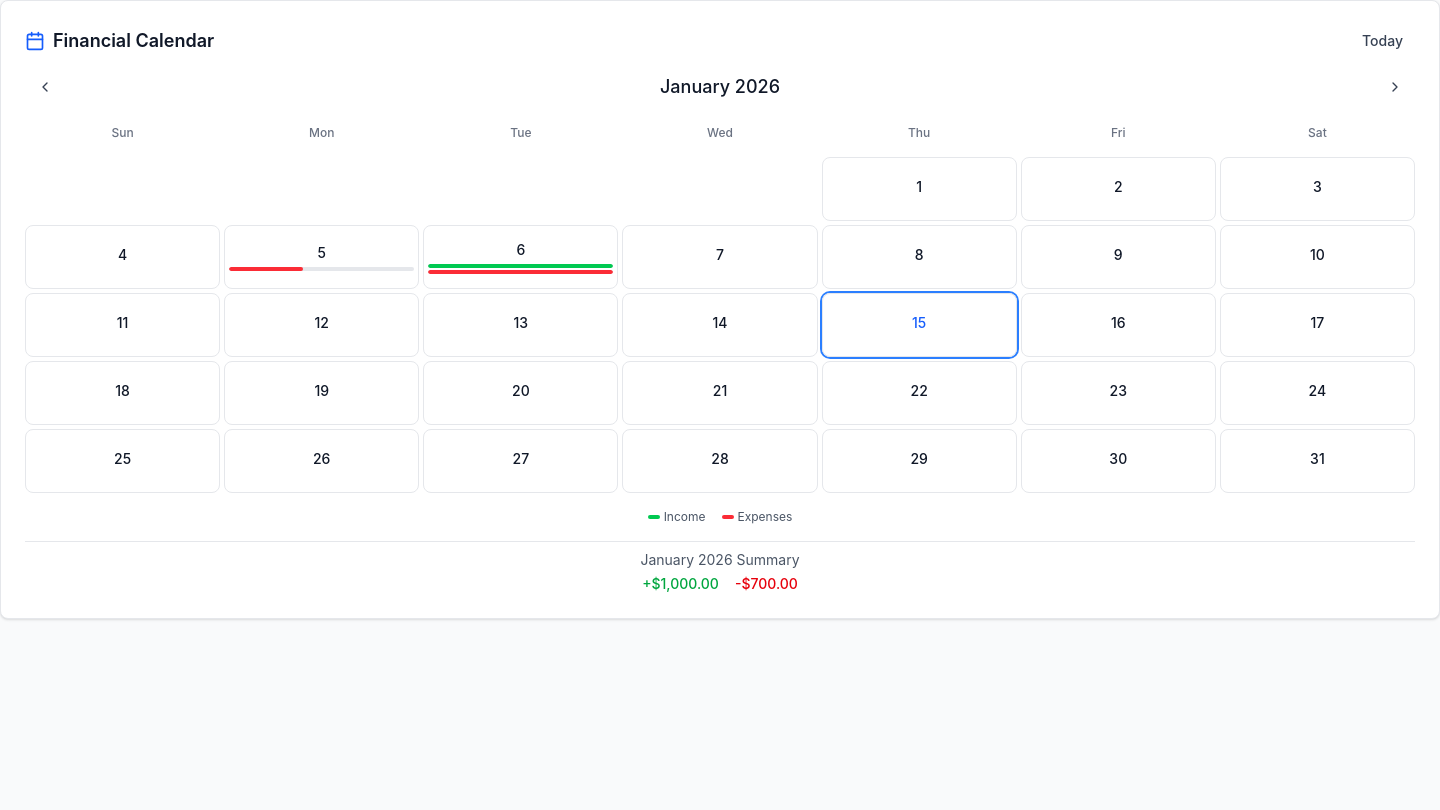
FinancialCalendarWidget › can navigate between months
The image size is (1440, 810).
Click the button named "Previous month" at (45, 87), box [25, 73, 65, 101]
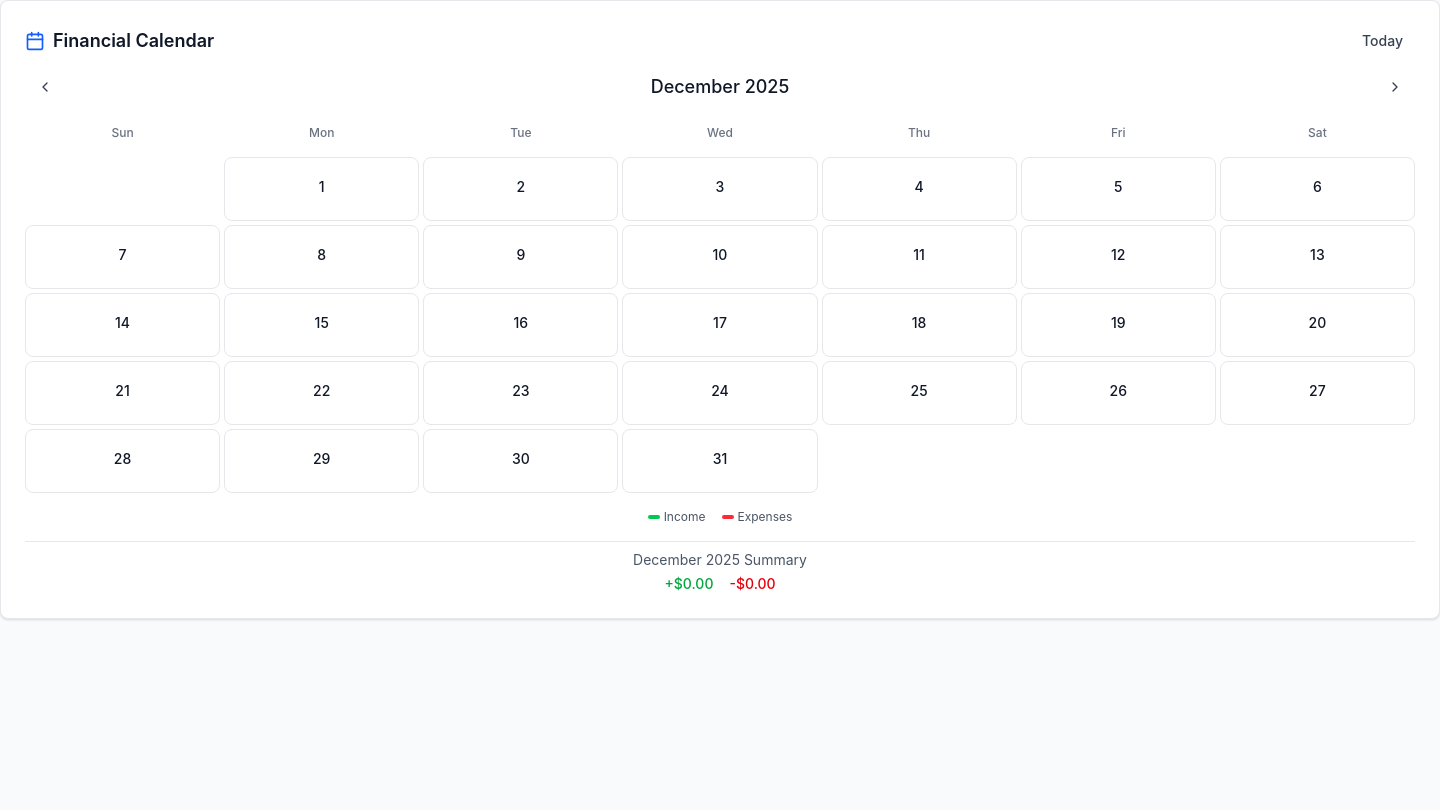
Check: the heading "December 2025" is shown, box [651, 73, 789, 101]
Click the button named "Next month" at (1395, 87), box [1375, 73, 1415, 101]
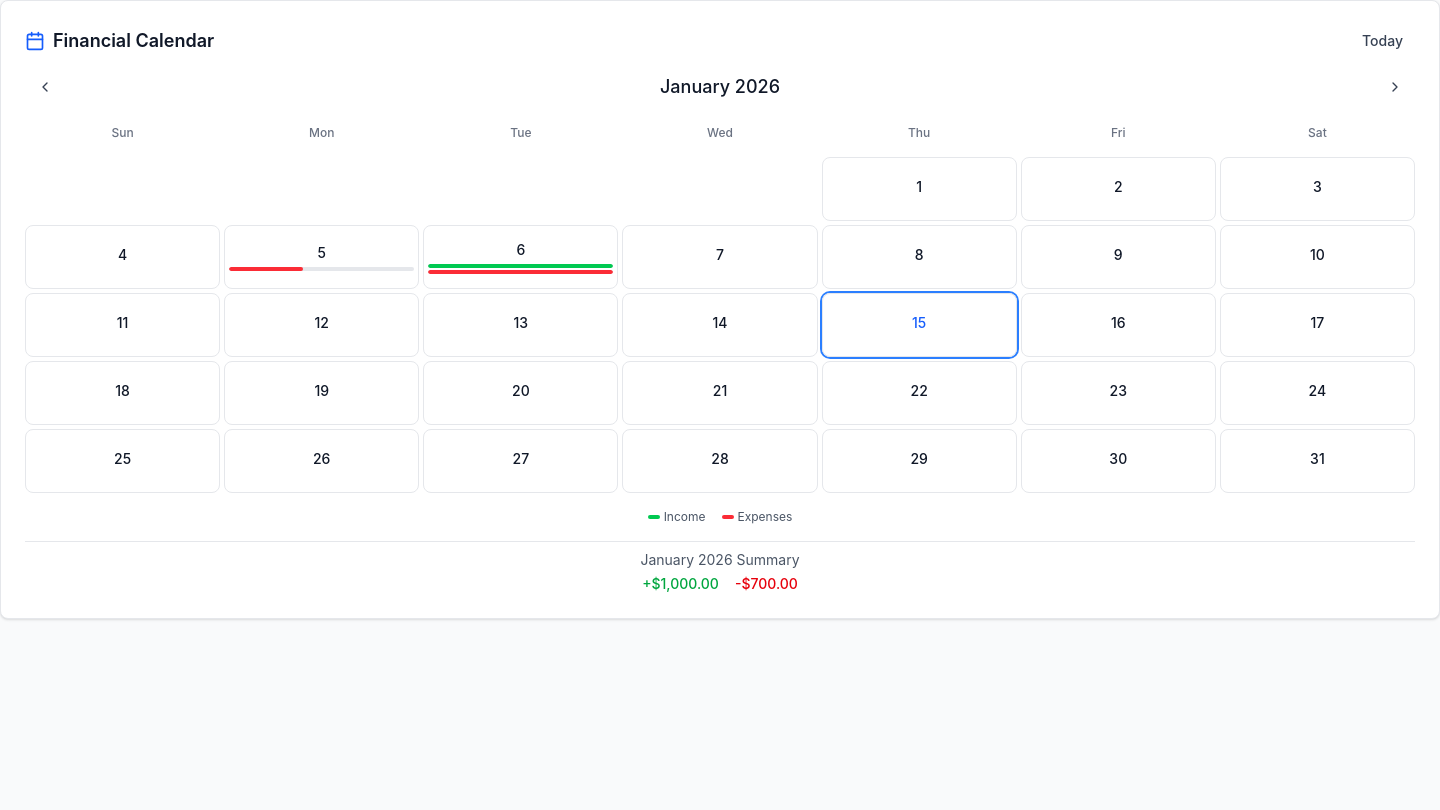
Click the button named "Next month" at (1395, 87), box [1375, 73, 1415, 101]
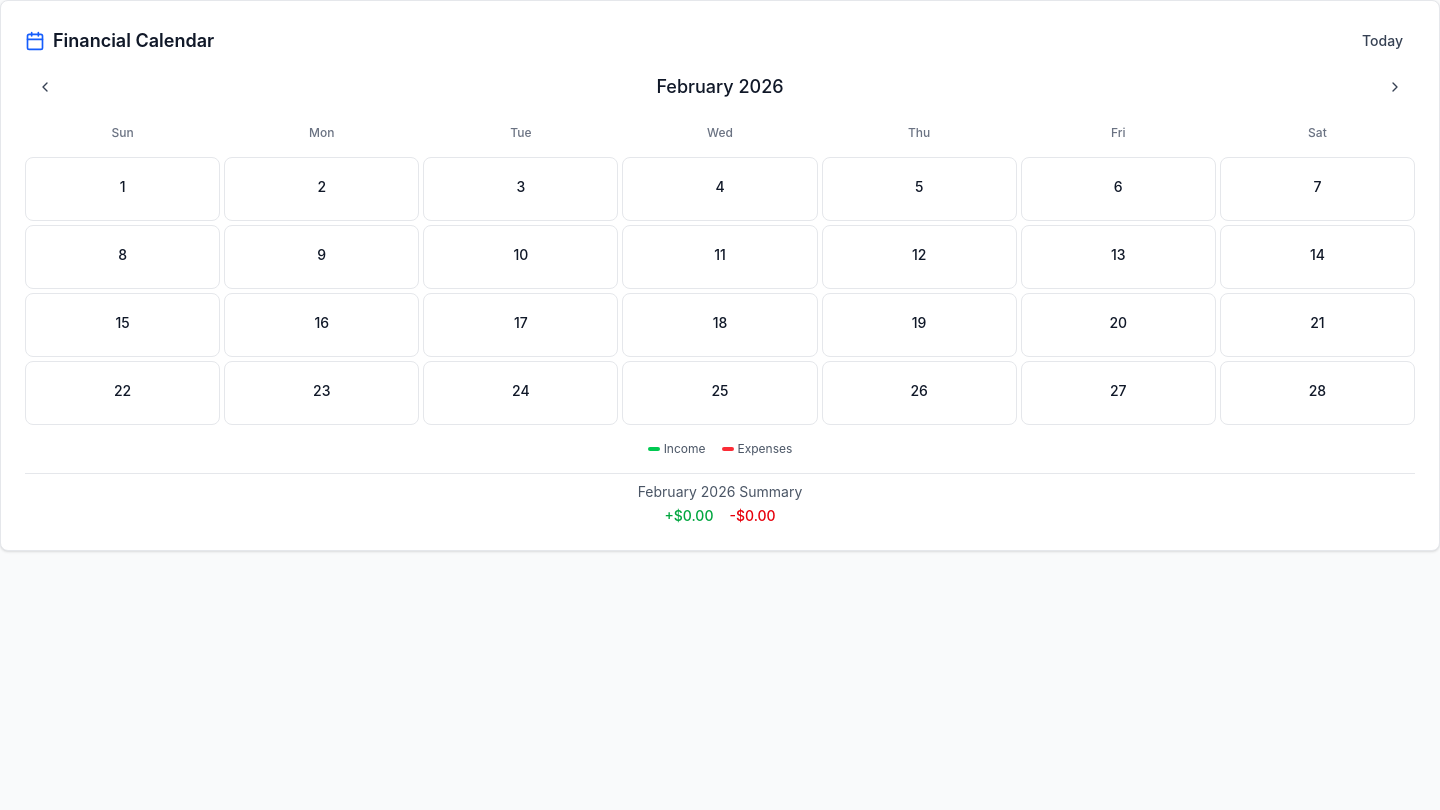
Check: the heading "February 2026" is shown, box [656, 73, 784, 101]
